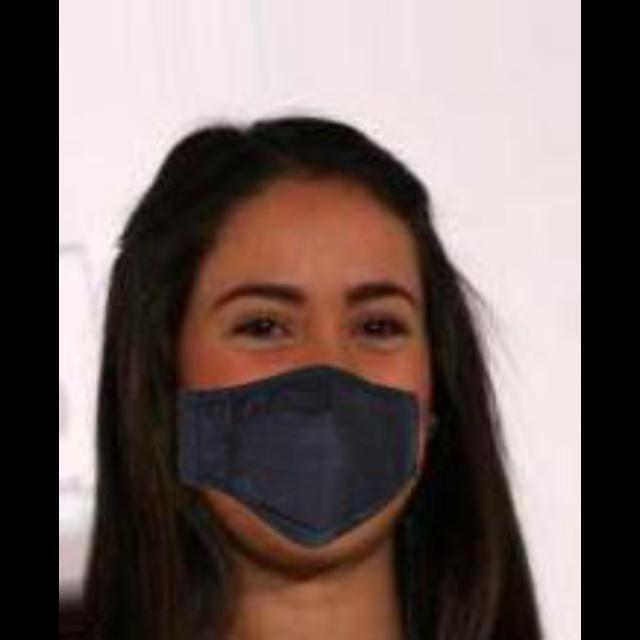suspicion: (152, 126, 460, 554)
